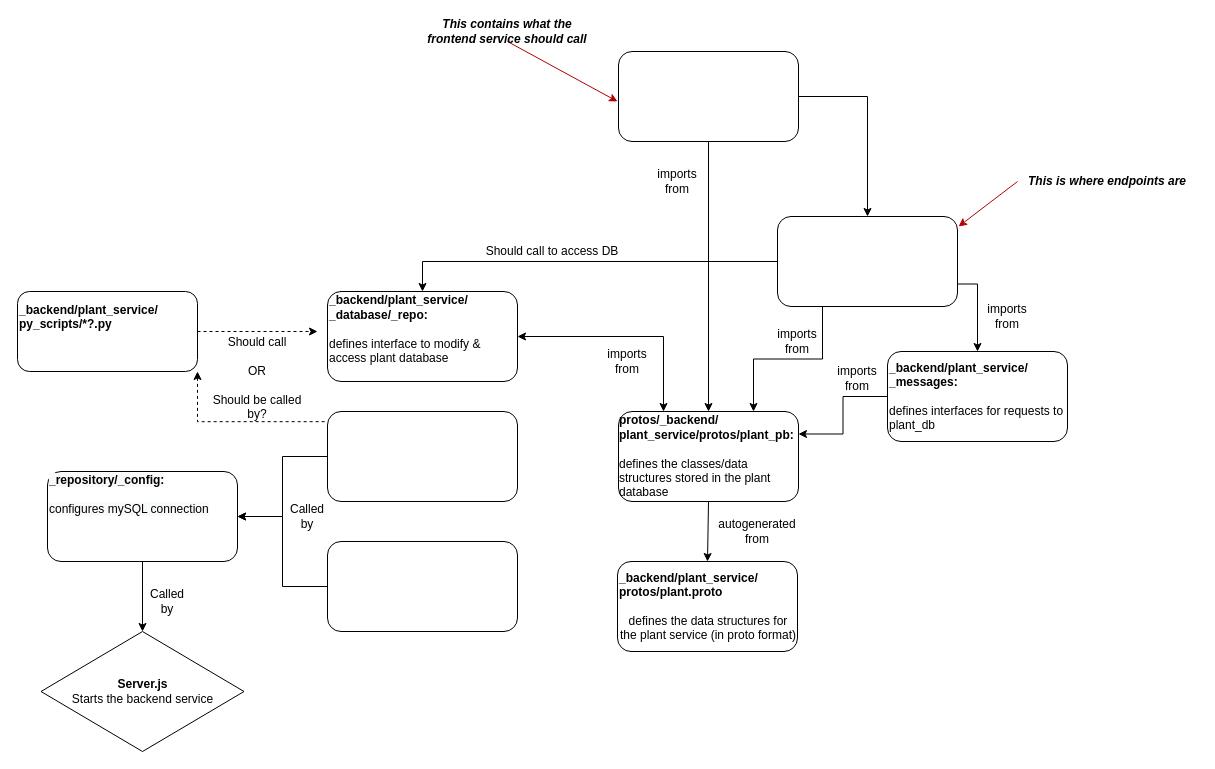
Some shapes in this 1215 by 769 pixel diagram are drawn without their labels. Here are the shapes that lost their labels. From the top down, the centre of each, then its label:
the point at 708,96: _api/plant_api: defines an API for FE to access plant objects
the point at 867,261: _backend/plant_service/server: implements logic of backend endpoints
the point at 422,456: _backend/plant_service/ _database/_init: initializes new plant database
the point at 422,586: _backend/plant_service/ _database/_create: creates new plant database
